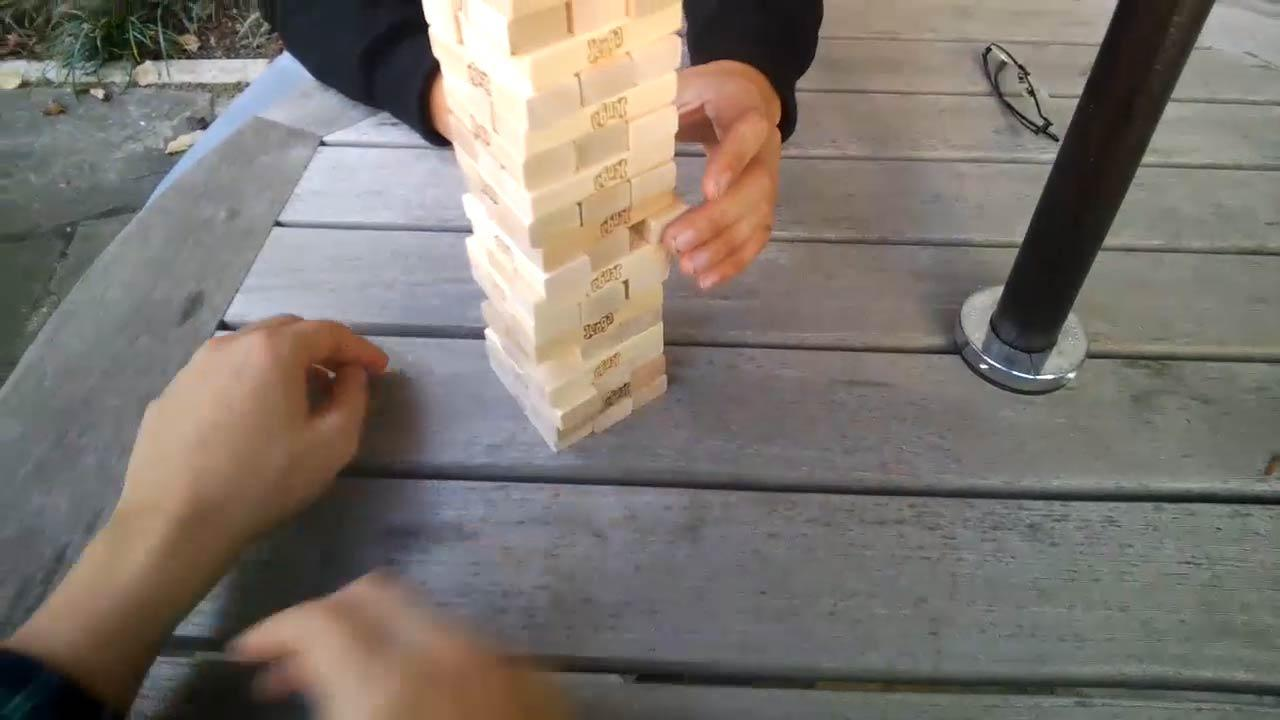hand: (116, 316, 392, 532), (225, 565, 570, 720), (666, 58, 785, 286)
